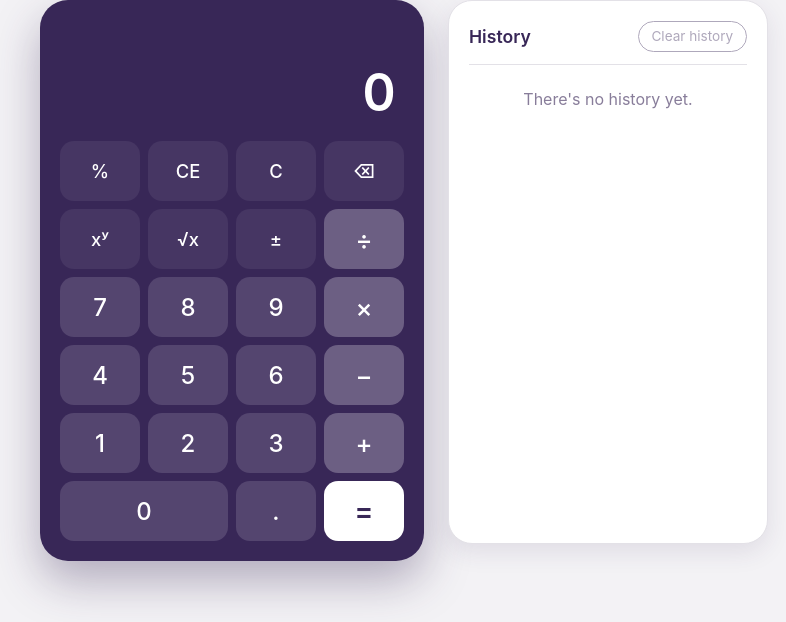
Test: Calculator › records calculations in a persisted history and recalls them
Type keys "6*7{Enter}"
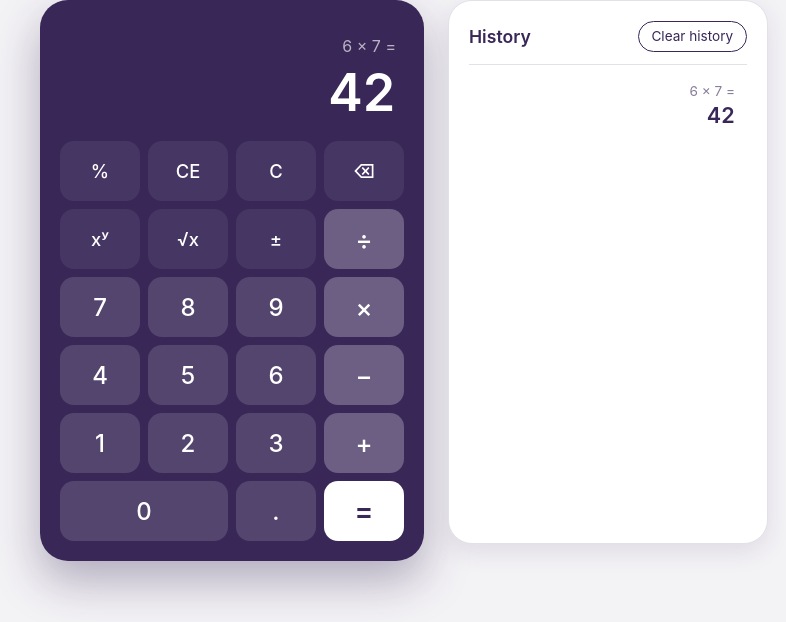
Expected: the 2nd text "6 × 7 =" is shown, [689,83,735,99]
Type keys "{Escape}1+"
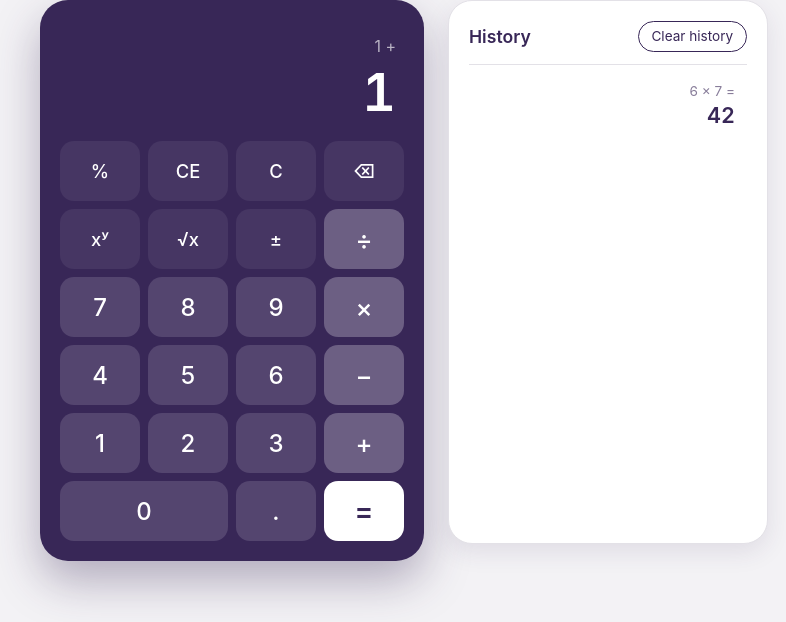
Click the button "6 × 7 = 42": x=712, y=91 [469,73,747,138]
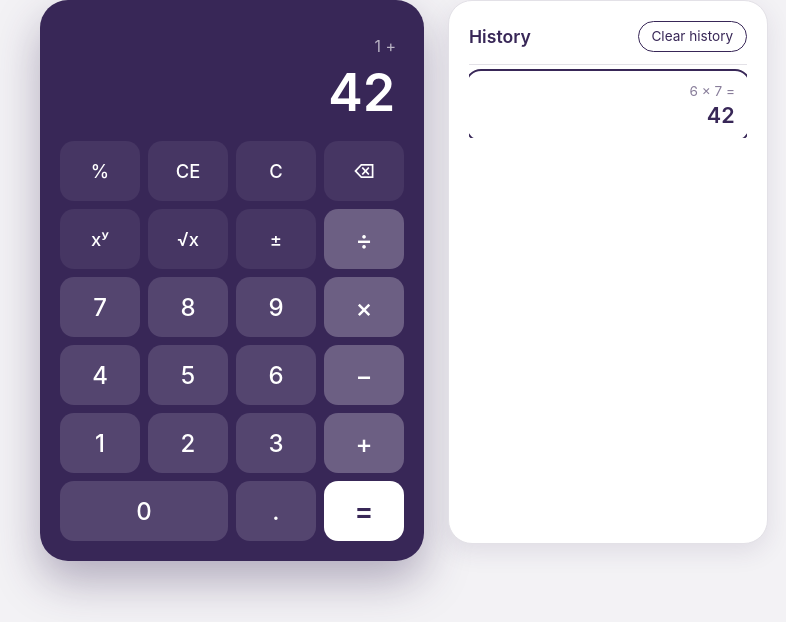
Press Enter
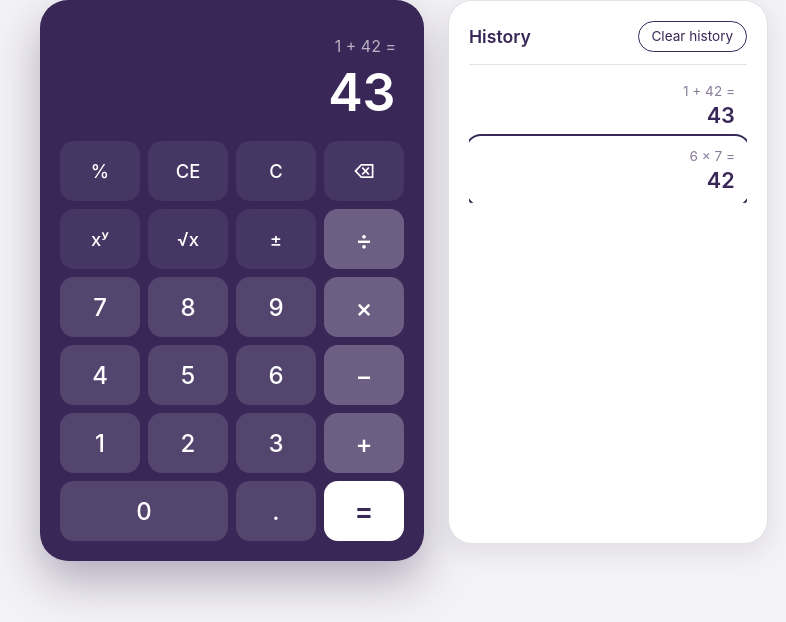
Expected: the text with test id "display-value" reads "43", [329,61,396,124]
